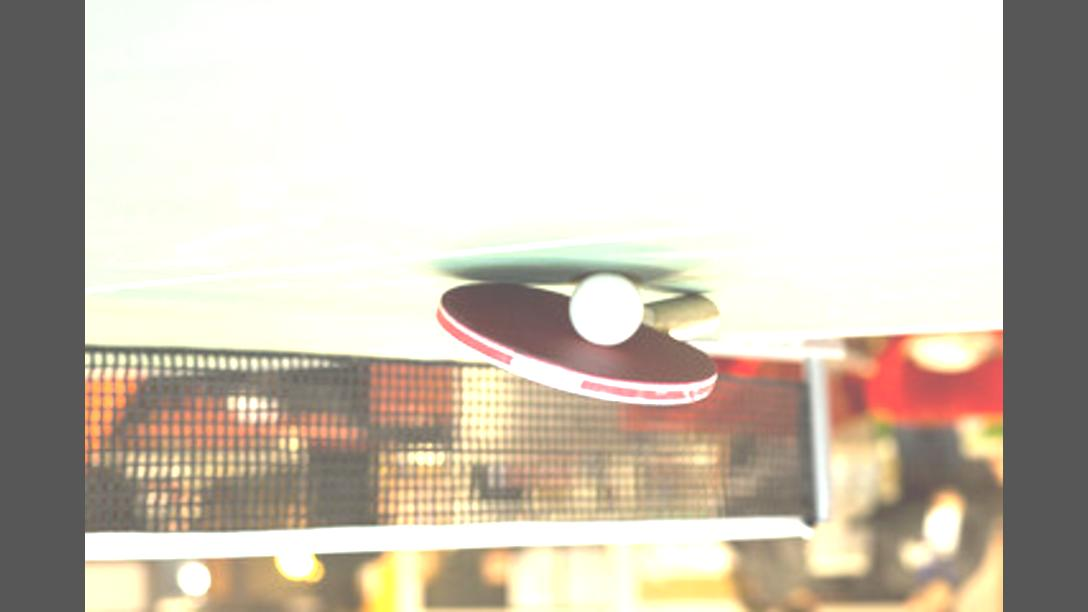Table-Tennis-Ball: (571, 276, 643, 346)
